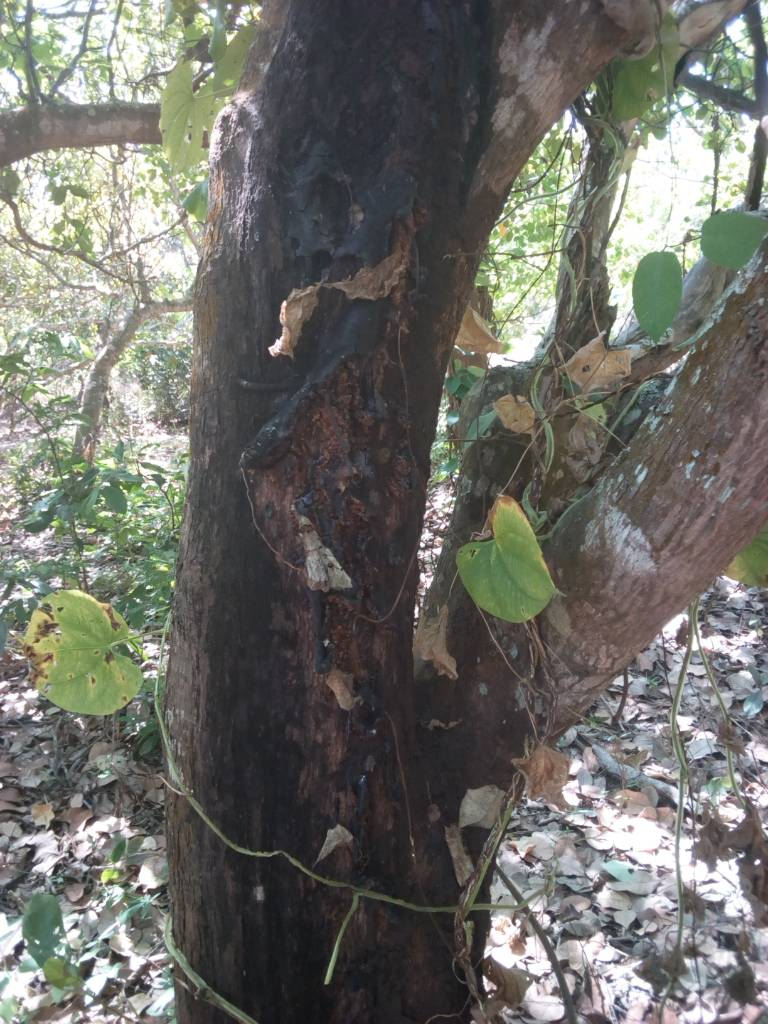Gommose: (185, 19, 449, 1024)
